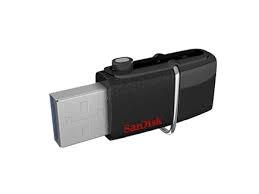Flash-drive: (32, 40, 225, 150)
